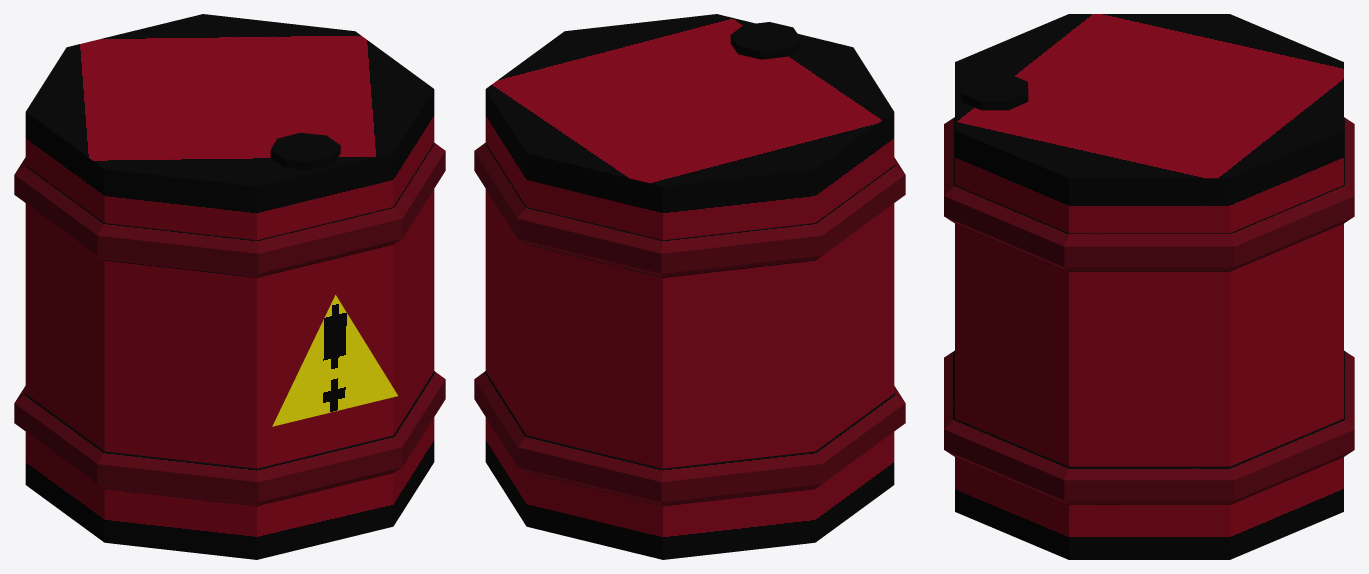
File: low_poly_explosive_barrel.glb
The picture shows the model from 3 angles, left to right: view 1: azimuth 30°, elevation 25°; view 2: azimuth 150°, elevation 25°; view 3: azimuth 270°, elevation 25°; orthographic projection. The views are drawn at different scales.
Parts seen in each view (by area): view 1: Cylinder; view 2: Cylinder; view 3: Cylinder.
Boxes of the visible parts, bbox=[...] form: Cylinder: bbox=[14, 14, 445, 559]; Cylinder: bbox=[474, 14, 905, 559]; Cylinder: bbox=[944, 14, 1354, 559].
Size of the model in its own units: 1.95 by 2.04 by 2.
1 material, 1 textured.
